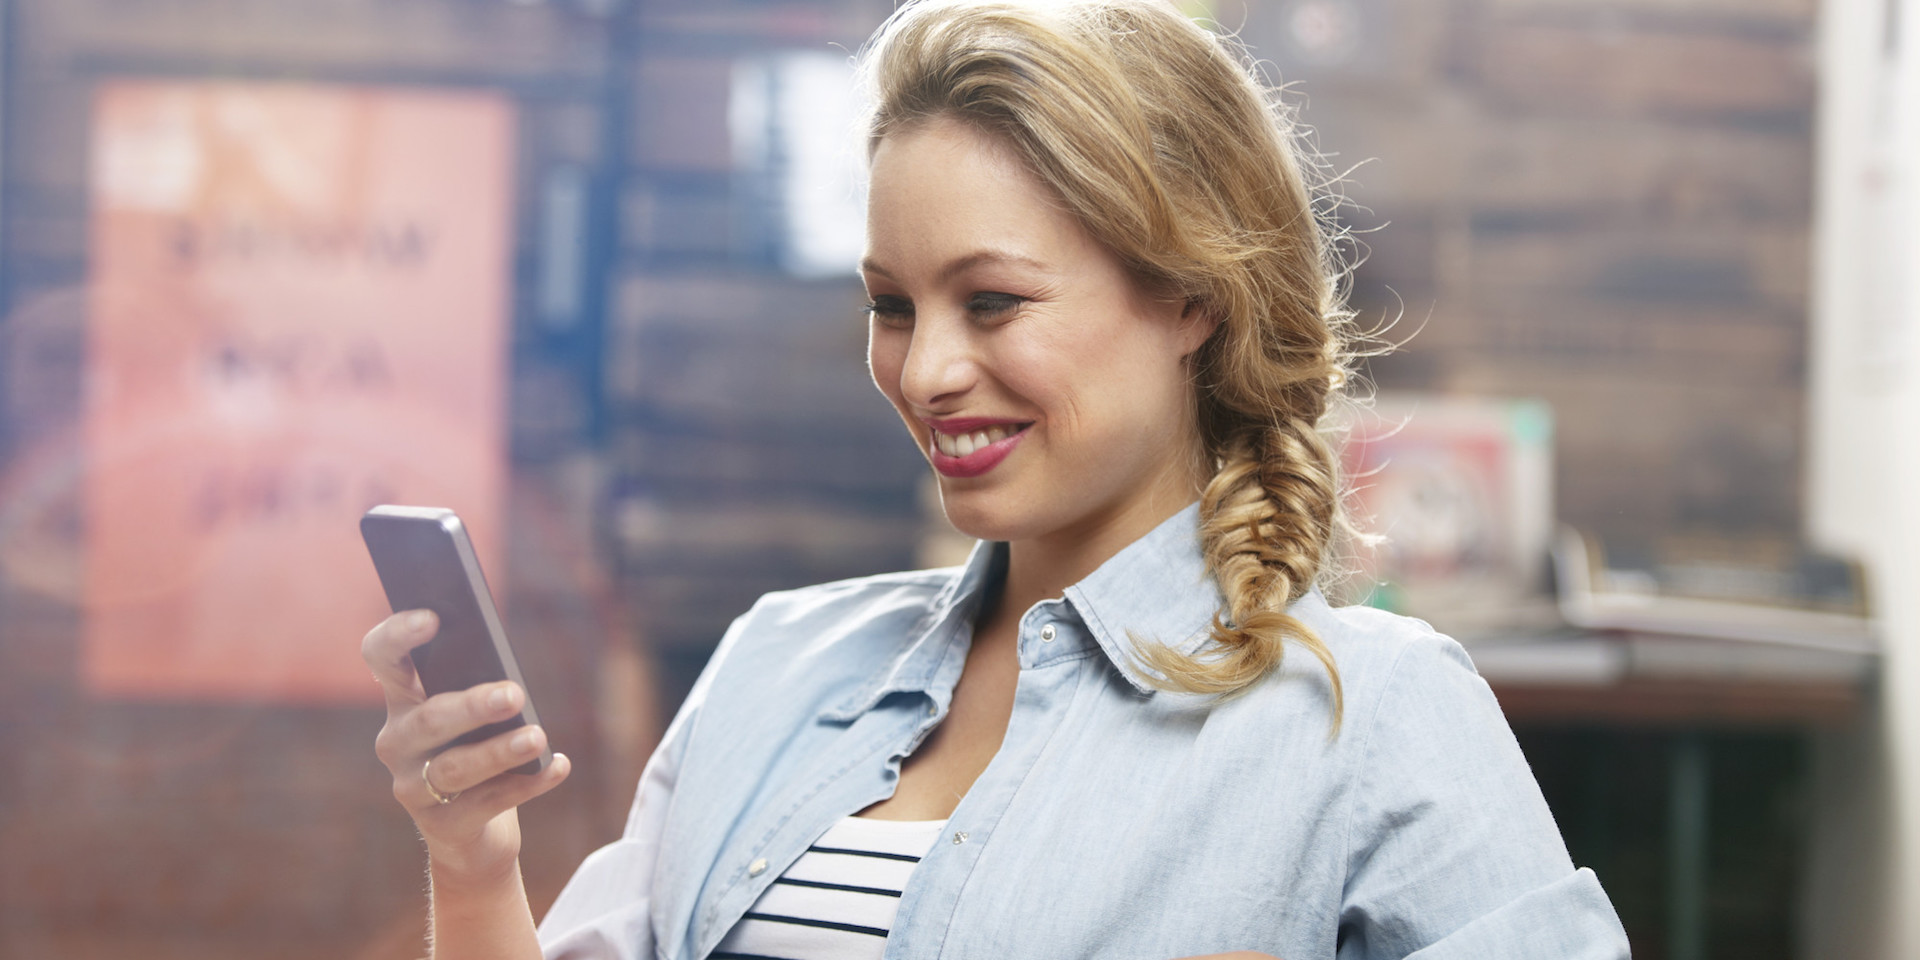smartphone: (359, 501, 557, 778)
